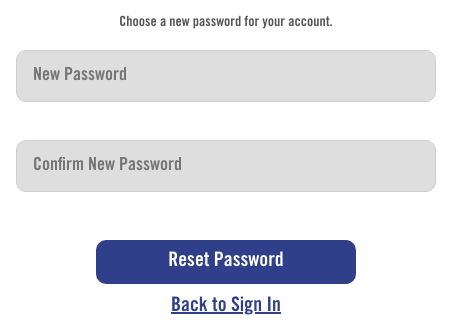
shows error when confirm password is empty
Type "MyNewPass1!" into the password field with placeholder "New Password".
click(226, 76); type("MyNewPass1!")  # box [16, 50, 436, 102]
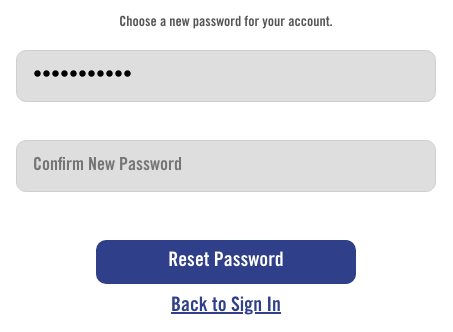
Click the button "Reset Password".
click(226, 262)  # box [96, 240, 356, 284]
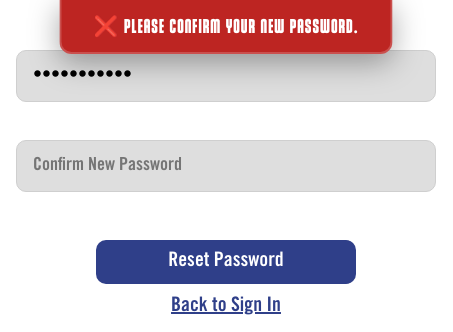
Result: the text "❌ Please confirm your new password." is shown at [60, 0, 393, 54]
